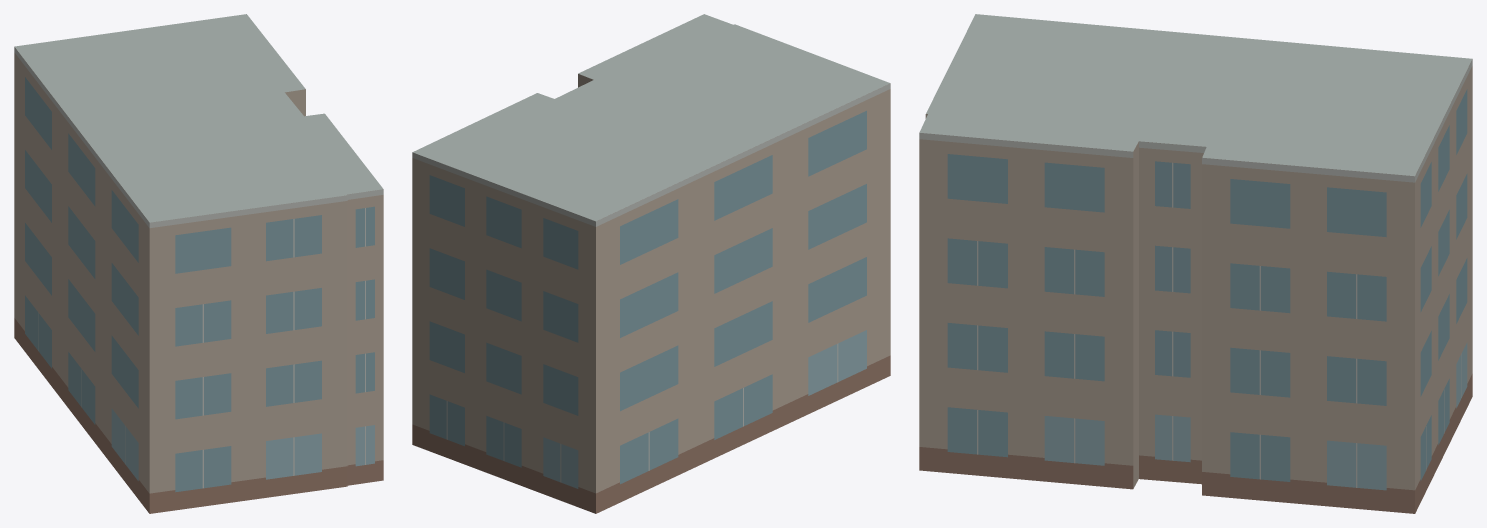
Rendered from survey-upis-32652839.glb.
The picture shows the model from 3 angles, left to right: view 1: azimuth 30°, elevation 25°; view 2: azimuth 150°, elevation 25°; view 3: azimuth 270°, elevation 25°; orthographic projection. The views are drawn at different scales.
Visible parts, largest first — view 1: survey-upis-32652839.tmp; view 2: survey-upis-32652839.tmp; view 3: survey-upis-32652839.tmp.
Part boxes in pixels (x1,y1,x2,y2): survey-upis-32652839.tmp: (14, 14, 383, 513); survey-upis-32652839.tmp: (412, 14, 890, 513); survey-upis-32652839.tmp: (919, 14, 1472, 513).
Bounding box in the file's own units: 13.2 × 12.8 × 19.02.
